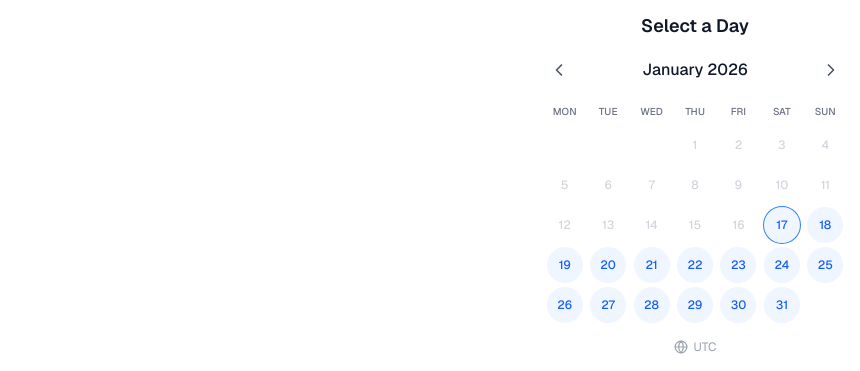
Test: BookingForm › Time Selection (Step 2) › should show message when no times are available
Click the button "31".
click(782, 305)  # box [764,287,800,323]
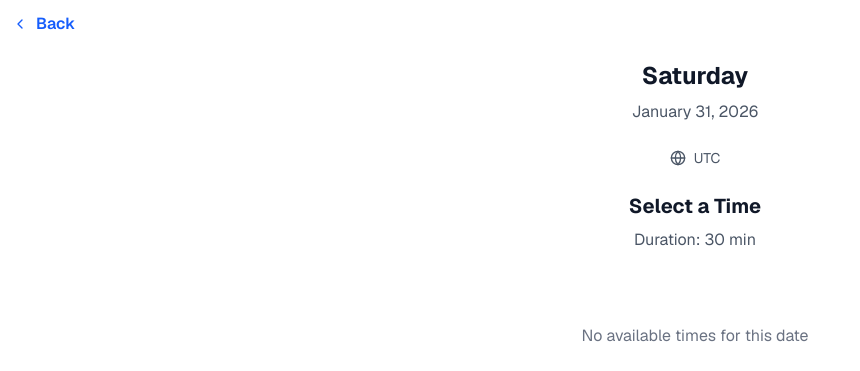
Expected: the text "No available times for this date" is shown, [582,325,808,346]
